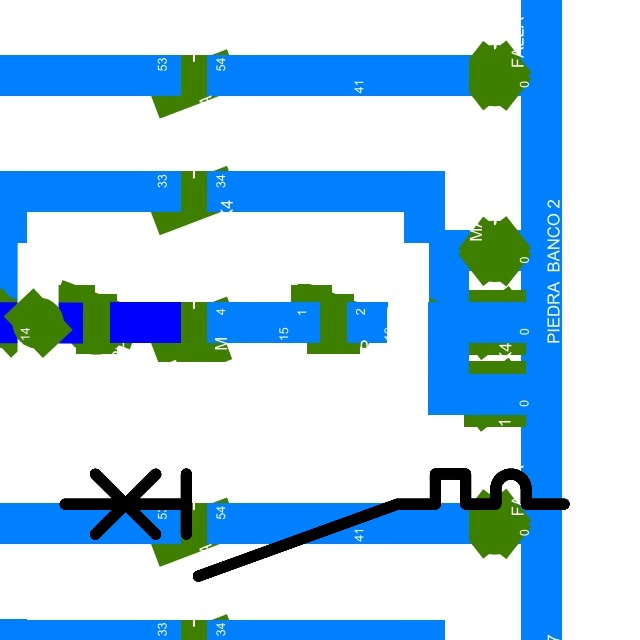interruptor_termomagnetico: (52, 461, 577, 589)
